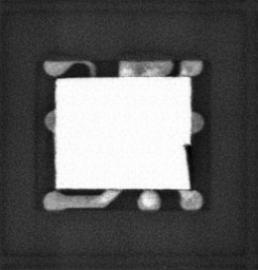DIE_BROKEN: (183, 143, 194, 191)
